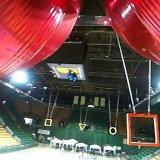Orange_Square_GShape: (128, 114, 158, 146)
Yellow_Circle_GShape: (109, 126, 117, 135)
Yellow_Square_GShape: (44, 119, 52, 127)
Yellow_Triangle_Gshape: (78, 123, 87, 131)
